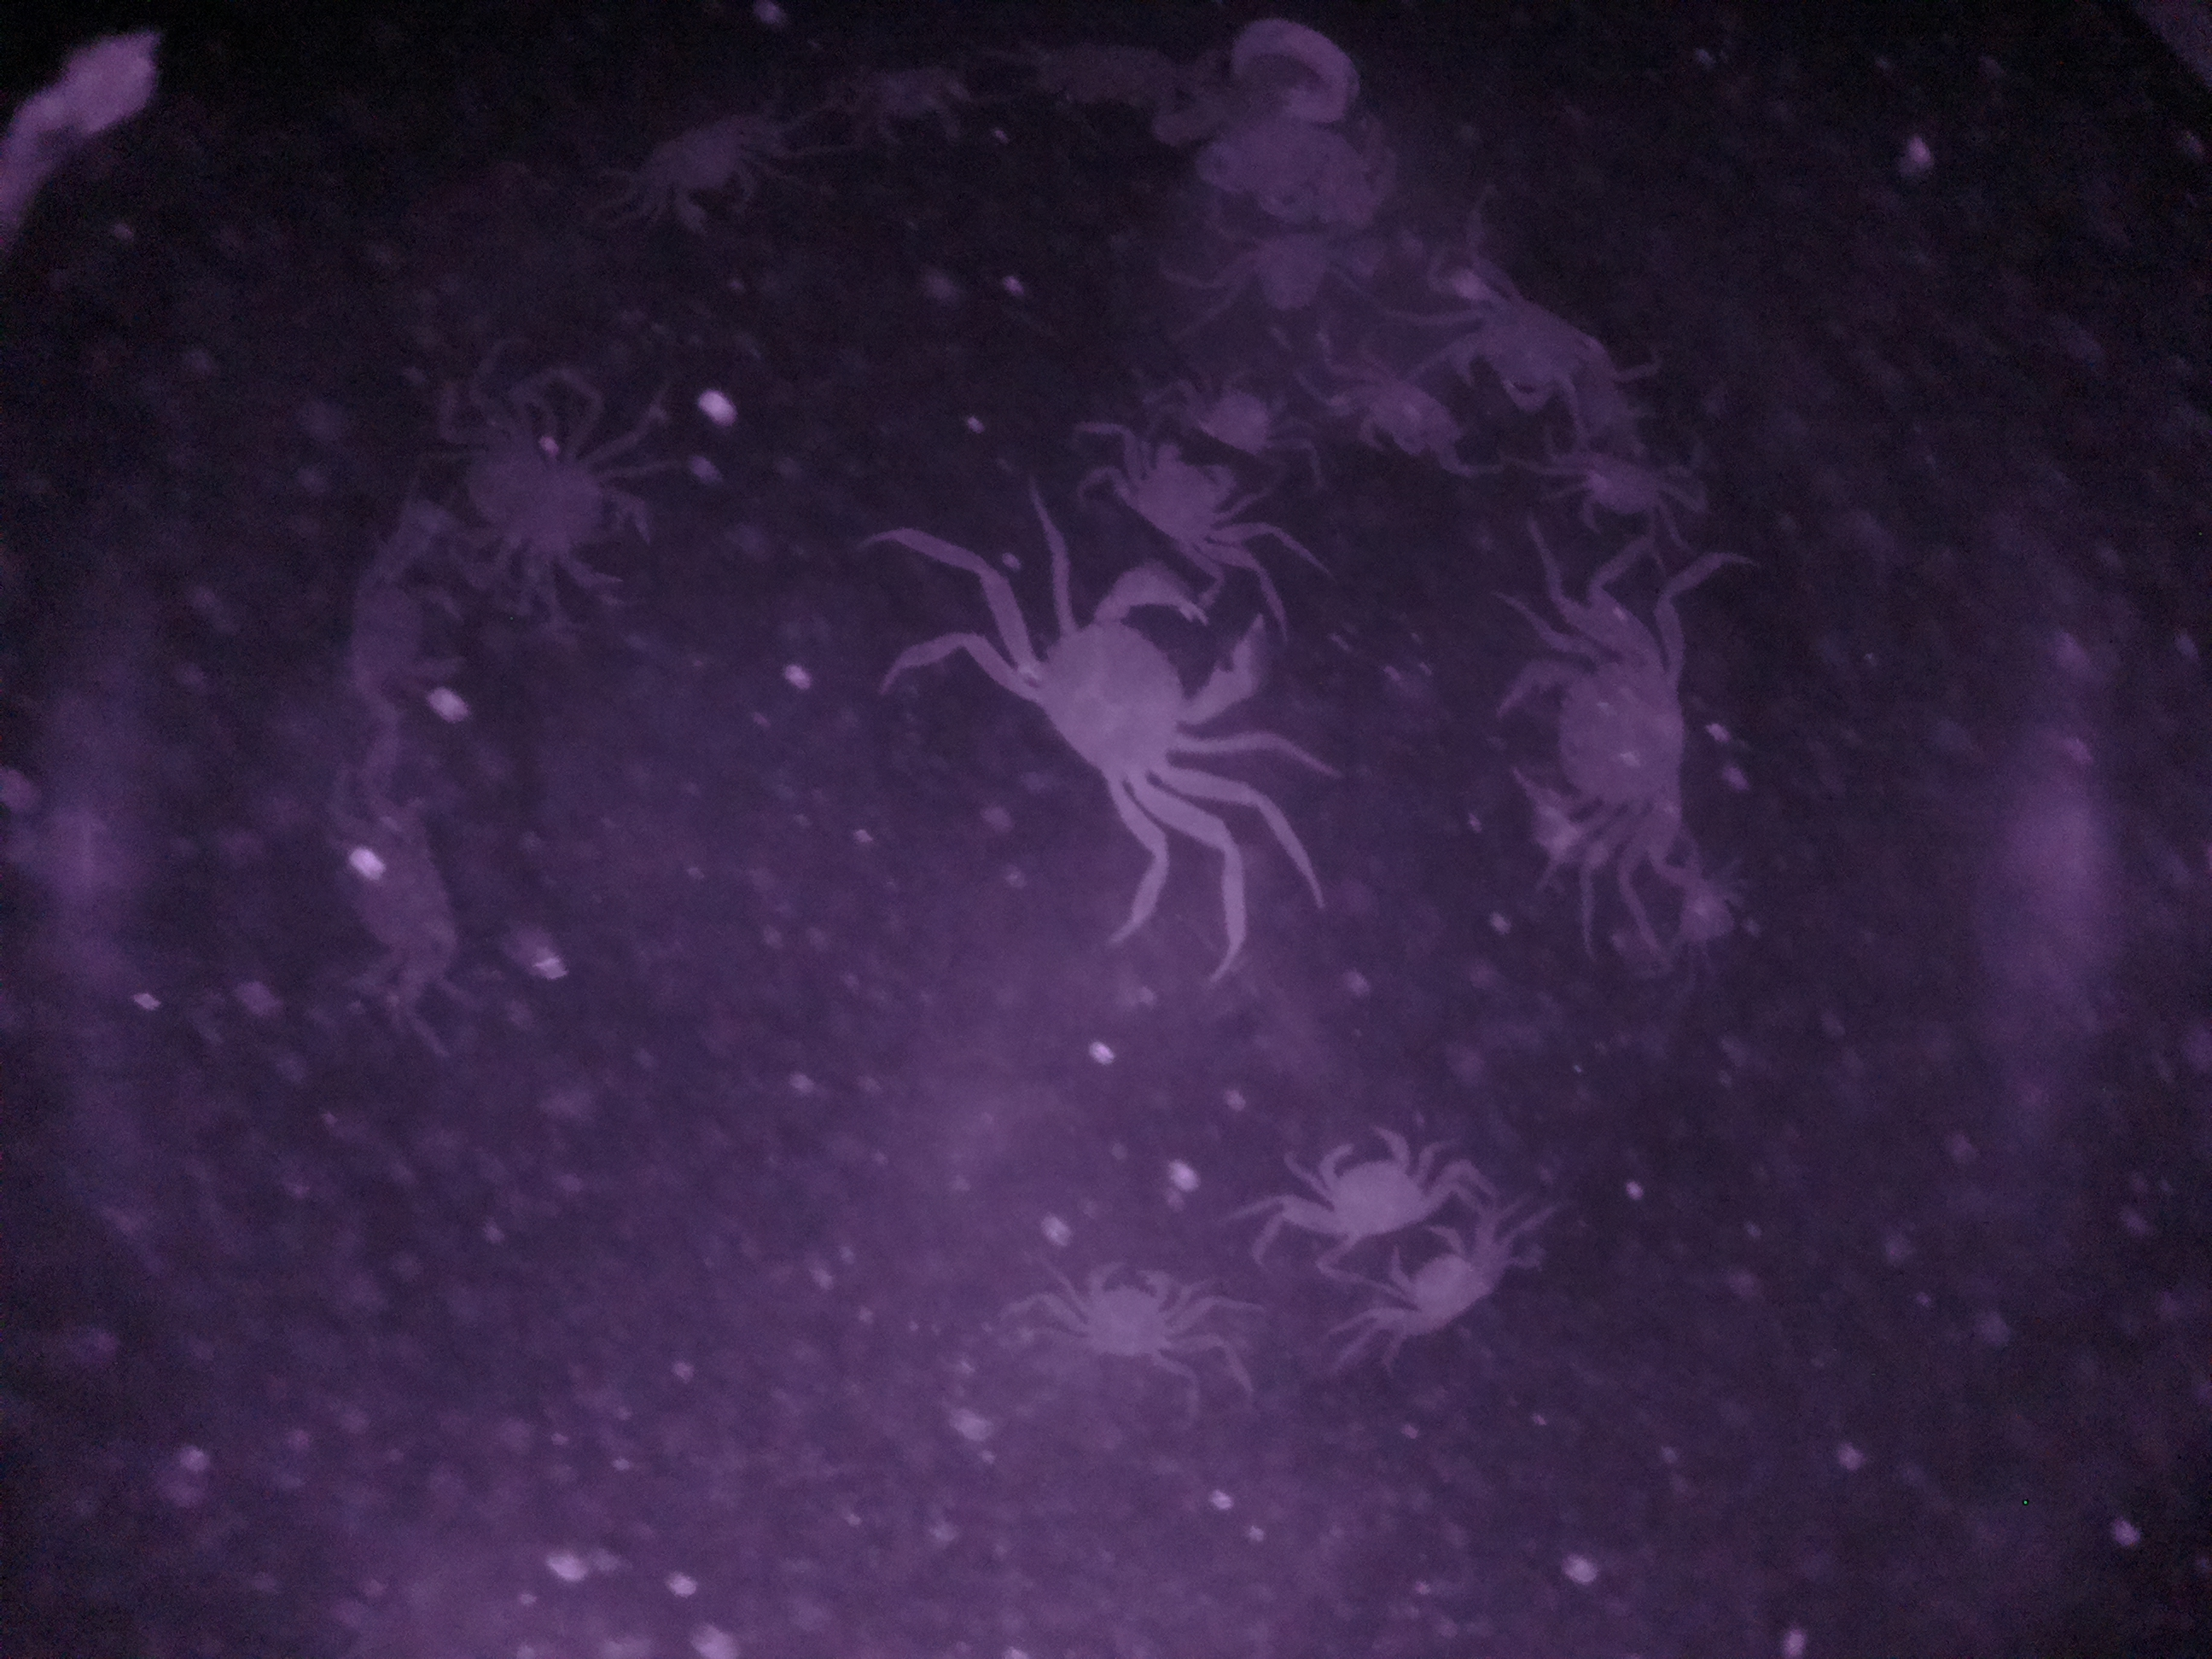Crab: (979, 572, 1273, 843), (1496, 627, 1705, 875), (1447, 265, 1611, 423), (1292, 1112, 1453, 1258), (1099, 429, 1263, 558), (1362, 1211, 1498, 1356), (1534, 434, 1721, 537), (1049, 1256, 1202, 1366)
